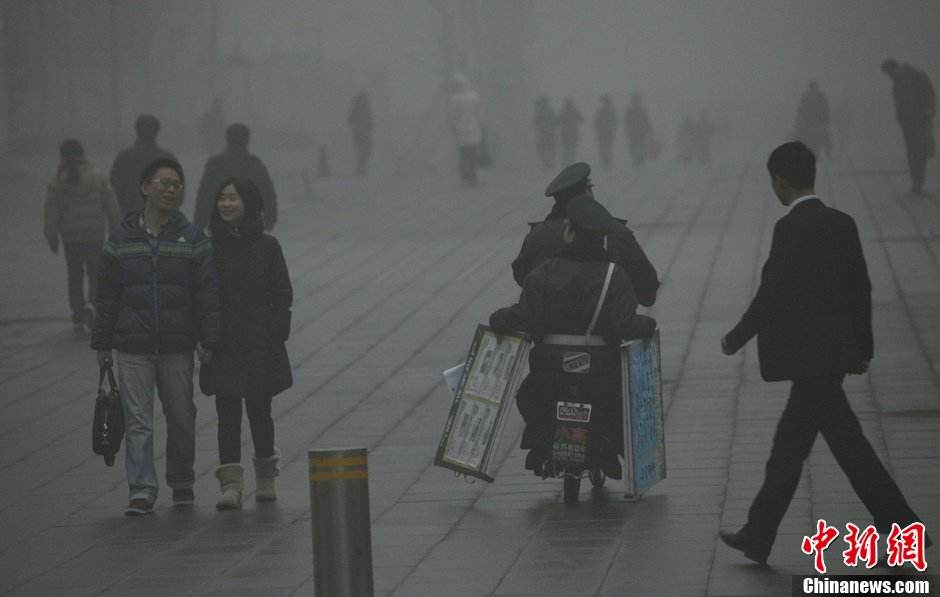person: (721, 140, 916, 560), (89, 159, 223, 518), (501, 193, 643, 500), (200, 178, 293, 511), (503, 153, 629, 271), (45, 141, 118, 332), (192, 123, 279, 235), (881, 58, 936, 197), (110, 114, 183, 211), (447, 74, 495, 187), (795, 79, 830, 153), (344, 93, 376, 171), (626, 93, 659, 167), (529, 94, 557, 170), (593, 92, 619, 172), (558, 96, 584, 165), (697, 113, 715, 169), (680, 109, 696, 170)
